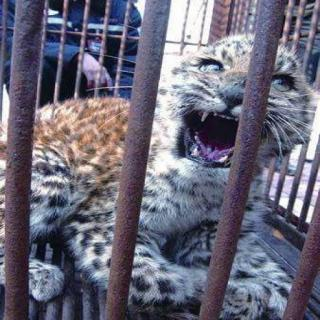Leopard: (11, 22, 319, 294)
